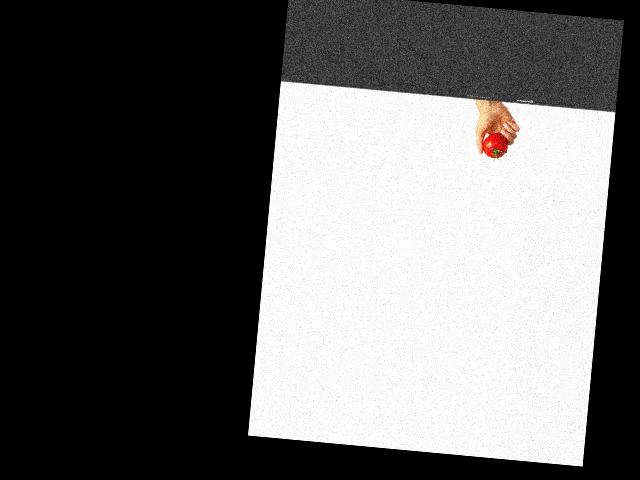tomato: (481, 131, 508, 159)
